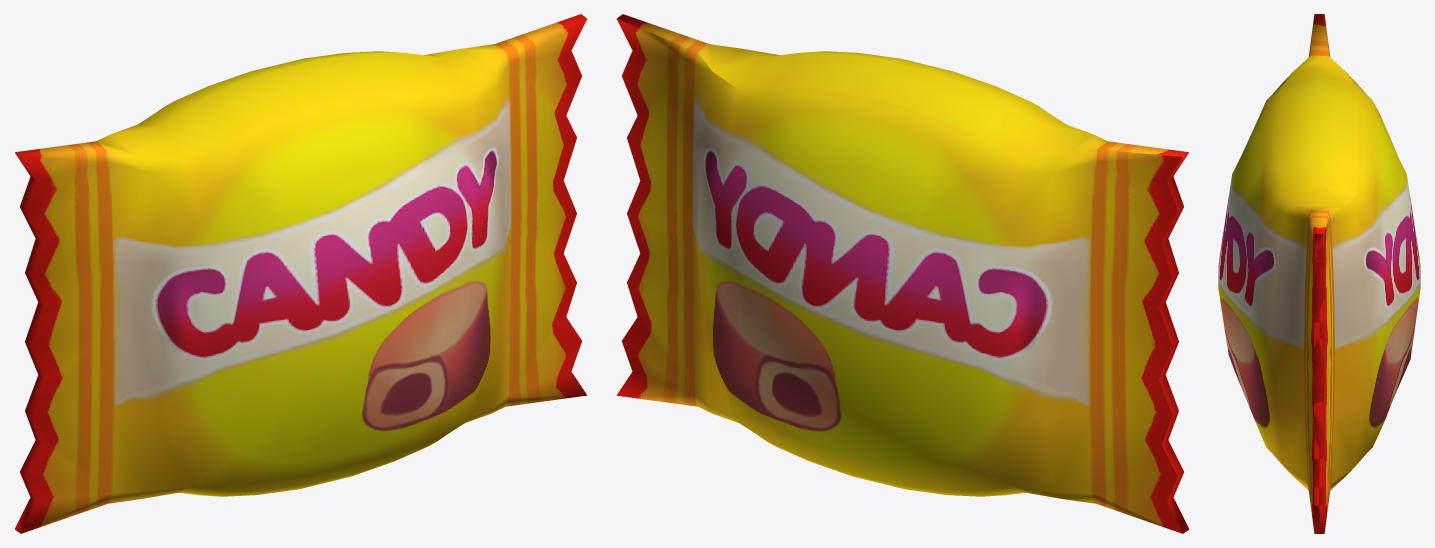
The model's file is TangGuo5.FBX.
3 views of the same model, side by side, from view 1: azimuth 30°, elevation 25°; view 2: azimuth 150°, elevation 25°; view 3: azimuth 270°, elevation 25° (orthographic). The views are drawn at different scales.
Visible parts, largest first — view 1: TangGuo; view 2: TangGuo; view 3: TangGuo.
Part boxes in pixels (x1,y1,x2,y2): TangGuo: [14, 14, 587, 533]; TangGuo: [616, 14, 1189, 533]; TangGuo: [1218, 14, 1420, 533].
Size of the model in its own units: 1.09 by 0.7667 by 0.4242.
